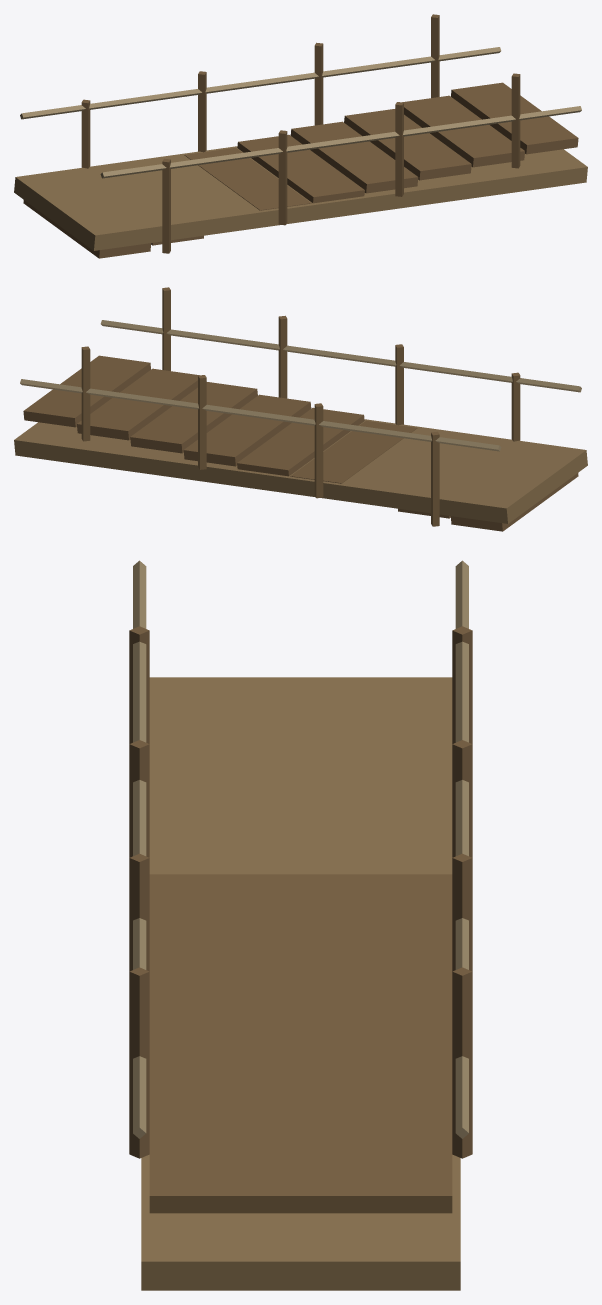
File: P_Gangplank.glb
The picture shows the model from 3 angles, top to bottom: view 1: azimuth 30°, elevation 25°; view 2: azimuth 150°, elevation 25°; view 3: azimuth 270°, elevation 25°; orthographic projection. The views are drawn at different scales.
Visible parts, largest first — view 1: P_Gangplank; view 2: P_Gangplank; view 3: P_Gangplank.
Boxes of the visible parts, bbox=[...] form: P_Gangplank: bbox=[14, 14, 587, 258]; P_Gangplank: bbox=[14, 287, 587, 531]; P_Gangplank: bbox=[129, 560, 472, 1290].
Size of the model in its own units: 3.39 by 0.8441 by 1.02.
